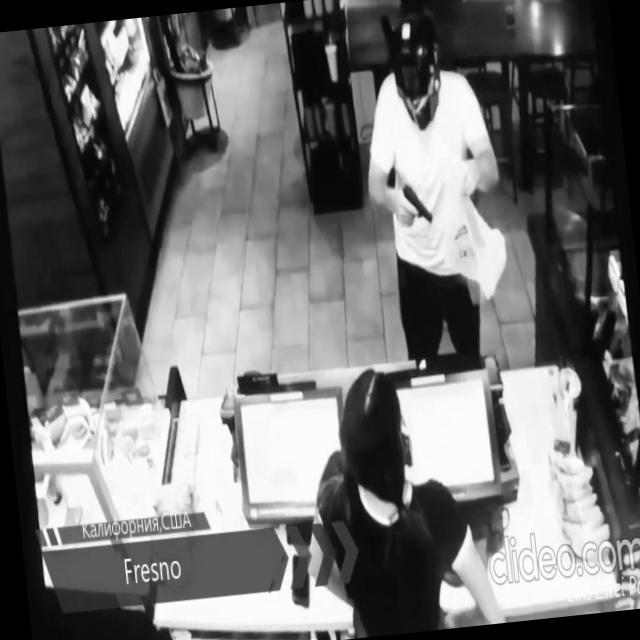gun: (398, 179, 434, 228)
person: (288, 353, 507, 640)
person with a gun: (350, 5, 518, 359)
